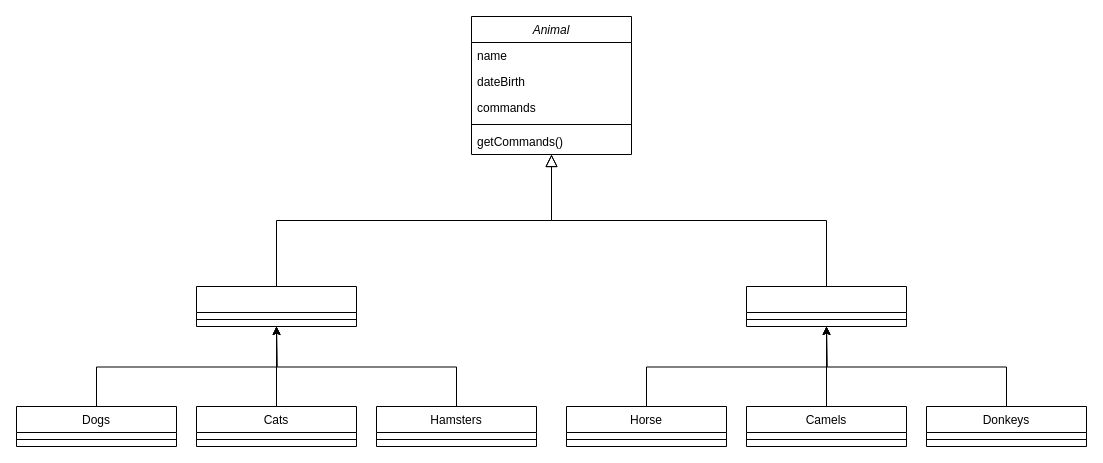
This 1103x463 diagram has some shape labels left out. Here are the shapes that lost their labels. From the top down, the centre of each, then its label:
the point at 276,306: Pets
the point at 826,306: PackAnimals
